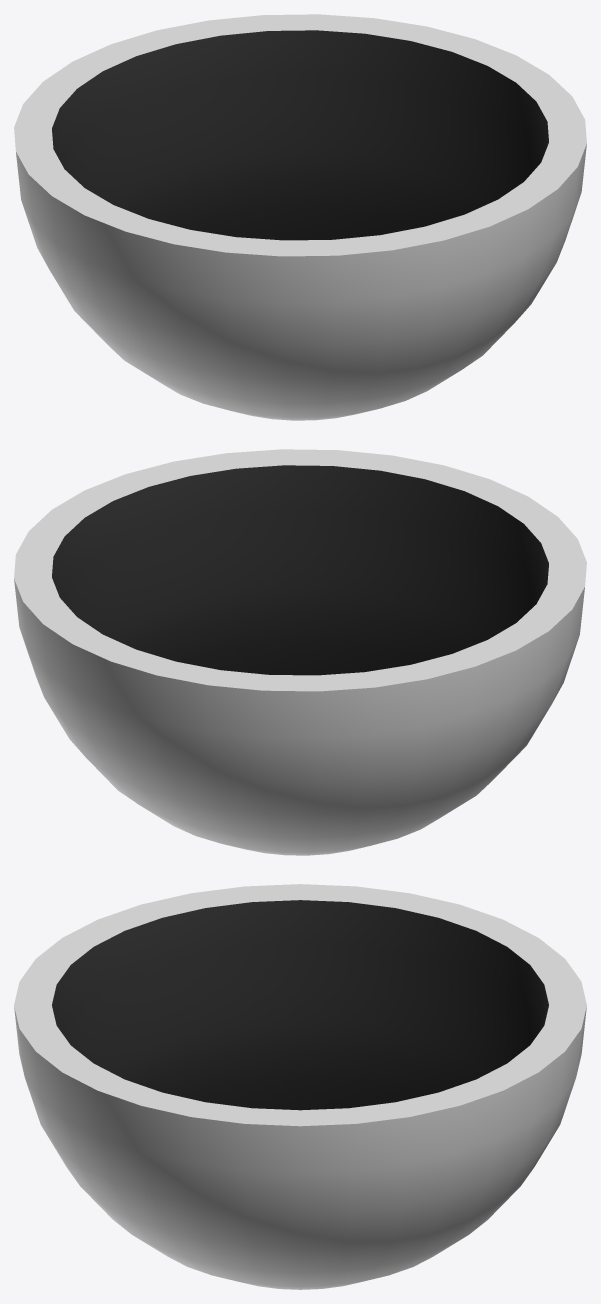
Rendered from hole8.fbx.
3 views of the same model, one above another, from view 1: azimuth 30°, elevation 25°; view 2: azimuth 150°, elevation 25°; view 3: azimuth 270°, elevation 25° (orthographic).
Visible parts, largest first — view 1: hole; view 2: hole; view 3: hole.
Part boxes in pixels (x1,y1,x2,y2): hole: (14, 14, 586, 420); hole: (14, 449, 586, 855); hole: (14, 884, 586, 1289).
Bounding box in the file's own units: 2.3 × 1.15 × 2.3.
